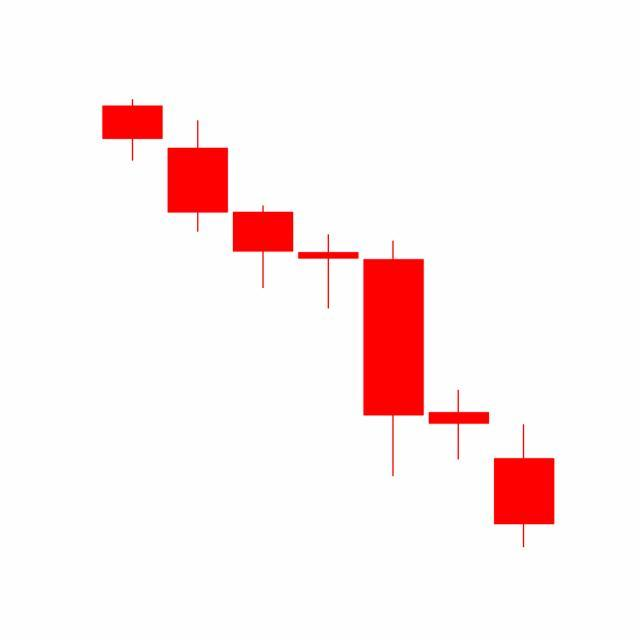Hikkake Pattern: (229, 201, 555, 548)
